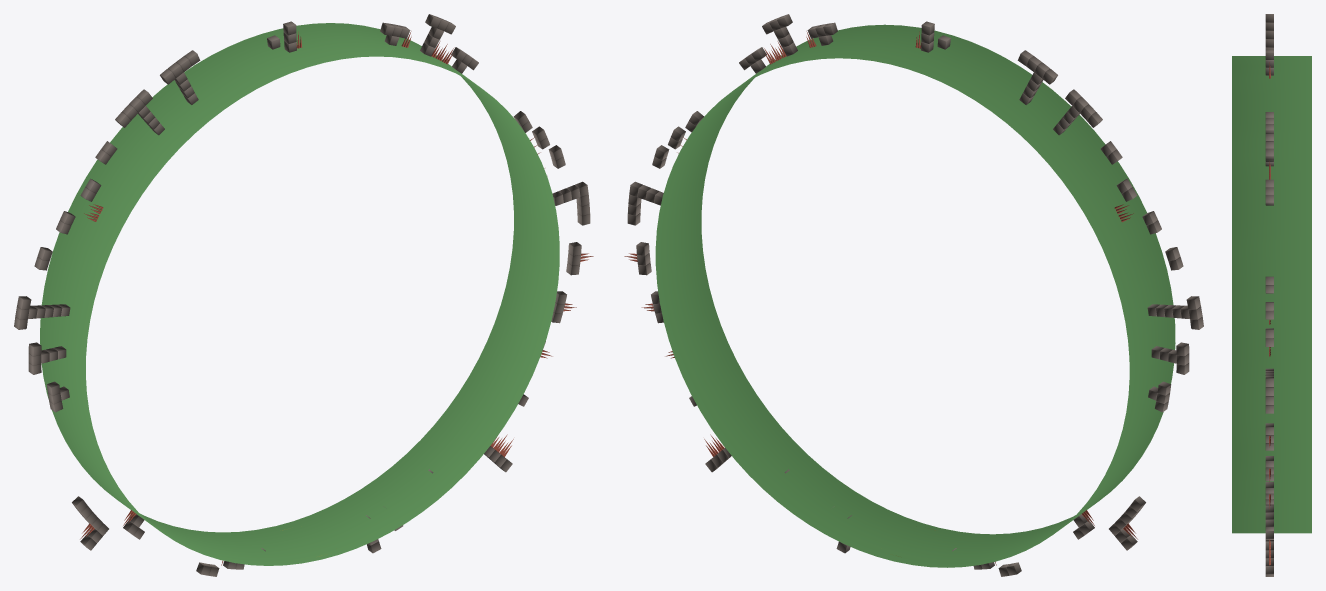
File: FaunaLevel.fbx
3 views of the same model, side by side, from view 1: azimuth 30°, elevation 25°; view 2: azimuth 150°, elevation 25°; view 3: azimuth 270°, elevation 25° (orthographic). The views are drawn at different scales.
Visible parts, largest first — view 1: GrassPlane; view 2: GrassPlane; view 3: GrassPlane.
Part boxes in pixels (x1,y1,x2,y2): GrassPlane: [40, 23, 559, 565]; GrassPlane: [655, 24, 1175, 567]; GrassPlane: [1232, 56, 1311, 533].
Bounding box in the file's own units: 72.2 × 65.27 × 9.91.
